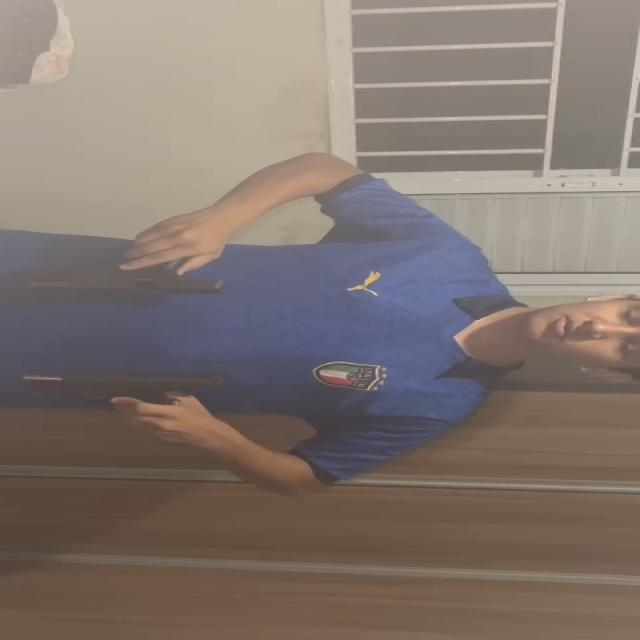gun: (22, 368, 228, 400), (32, 270, 226, 298)
